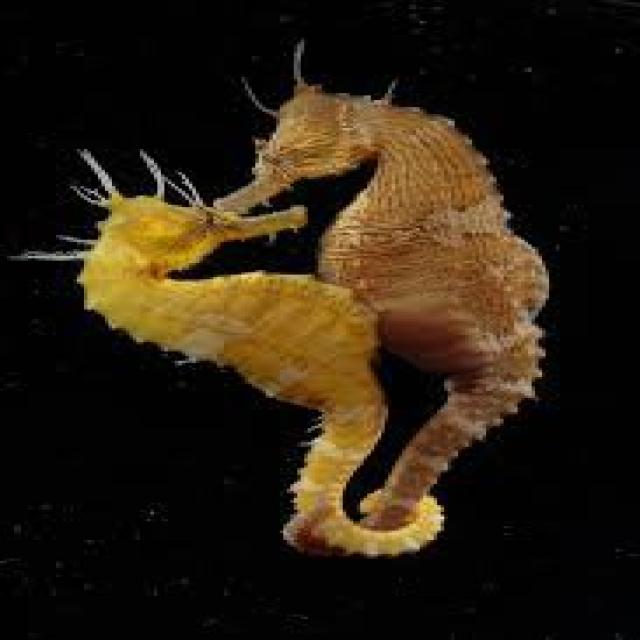seahorse: (220, 47, 546, 528), (77, 151, 441, 554)
